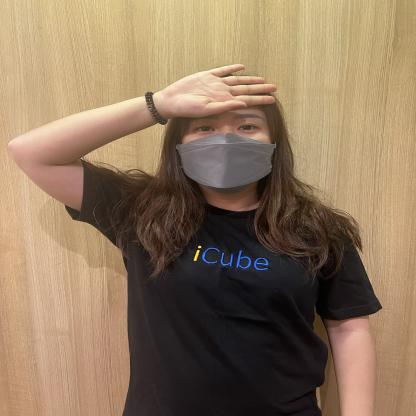Sick: (86, 23, 317, 138)
